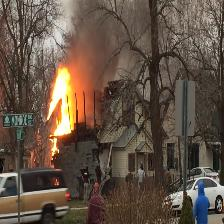fire: (46, 69, 76, 136)
smoke: (76, 19, 106, 82)
